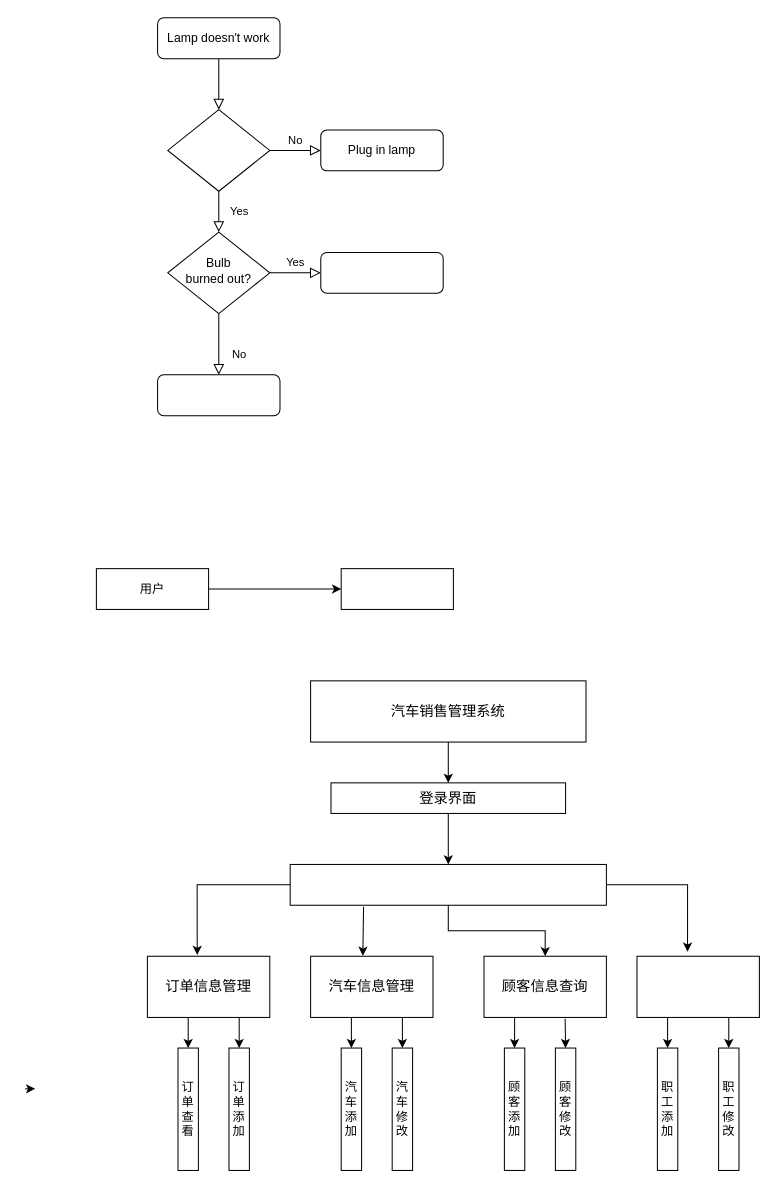
Some shapes in this 777 by 1188 pixel diagram are drawn without their labels. Here are the shapes that lost their labels. From the top down, the centre of each, then its label:
(x=218, y=150): Lamp plugged in?
(x=381, y=272): Replace Bulb
(x=218, y=395): Repair Lamp
(x=396, y=588): 身份验证
(x=447, y=884): 汽车销售管理 系统界面
(x=697, y=986): 职工
